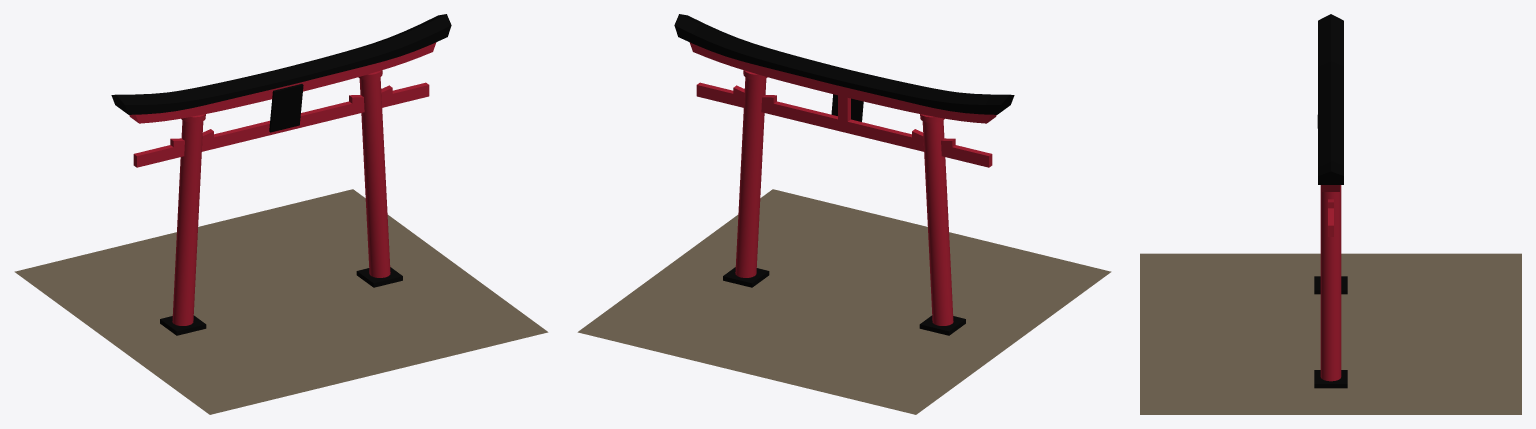
File: Torii_4.0.fbx
The picture shows the model from 3 angles, left to right: view 1: azimuth 30°, elevation 25°; view 2: azimuth 150°, elevation 25°; view 3: azimuth 270°, elevation 25°; orthographic projection. The views are drawn at different scales.
Parts seen in each view (by area): view 1: 地面.001, 柱・貫.001, 笠木.001, 額束.001, 沓石.001; view 2: 地面.001, 柱・貫.001, 笠木.001, 沓石.001; view 3: 地面.001, 笠木.001, 柱・貫.001, 沓石.001.
Boxes of the visible parts, x1,y1,x2,y2 form: 地面.001: (14,189,548,414); 柱・貫.001: (129,42,436,325); 笠木.001: (111,14,451,114); 額束.001: (269,84,303,132); 沓石.001: (160,267,402,335); 地面.001: (577,189,1111,414); 柱・貫.001: (689,42,996,325); 笠木.001: (674,14,1014,114); 沓石.001: (723,267,965,335); 地面.001: (1140,253,1521,414); 笠木.001: (1318,14,1343,184); 柱・貫.001: (1320,185,1341,381); 沓石.001: (1314,276,1347,388).
Bounding box in the file's own units: 6 × 4.64 × 6.
